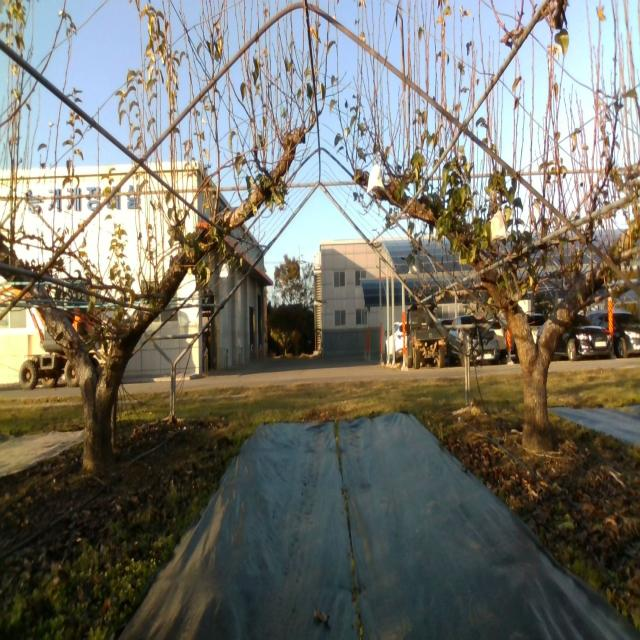pearbags: (490, 206, 507, 245), (367, 164, 386, 196)
